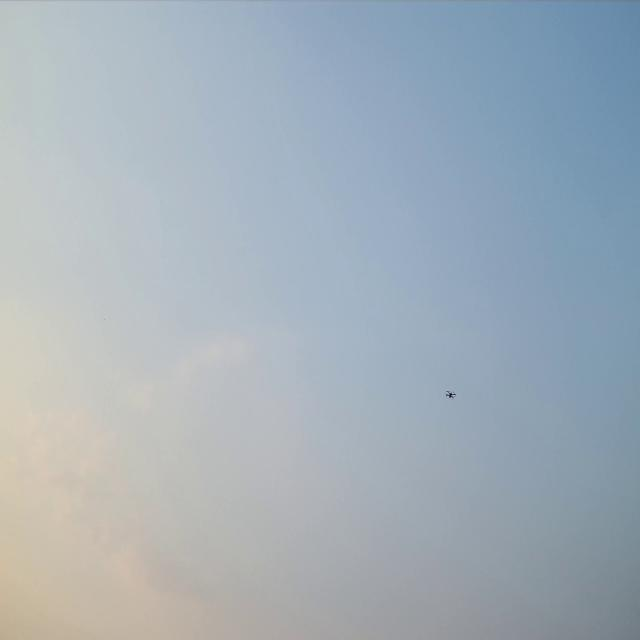UAV: (447, 391, 453, 397)
